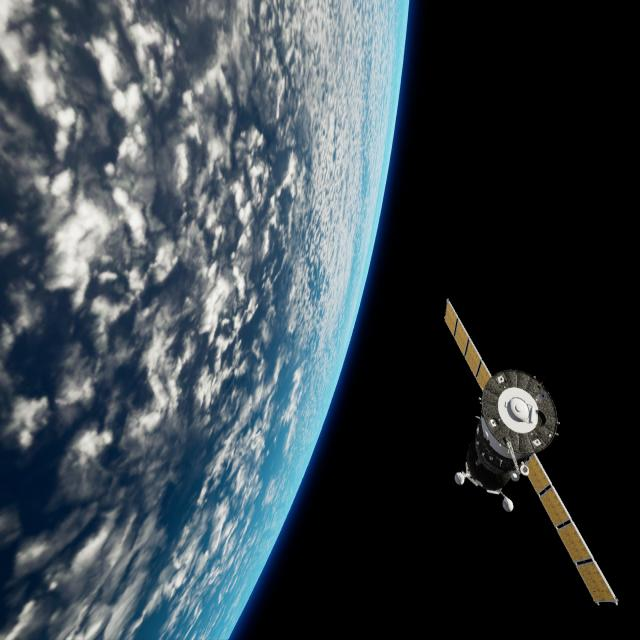Satellites revolving around earth: (1, 1, 411, 638), (441, 296, 619, 609)
